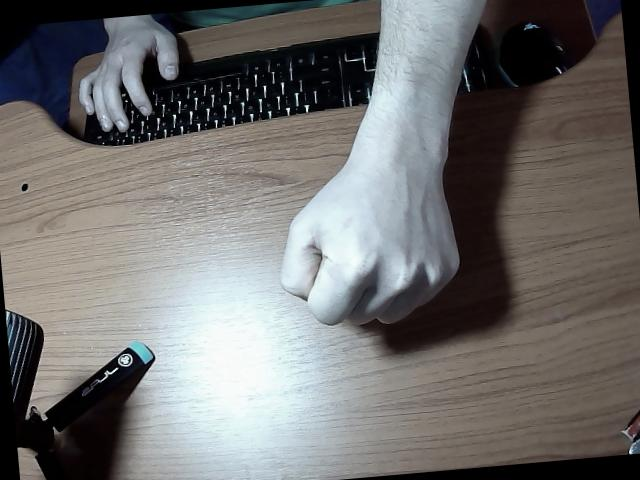rock: (280, 0, 486, 324)
